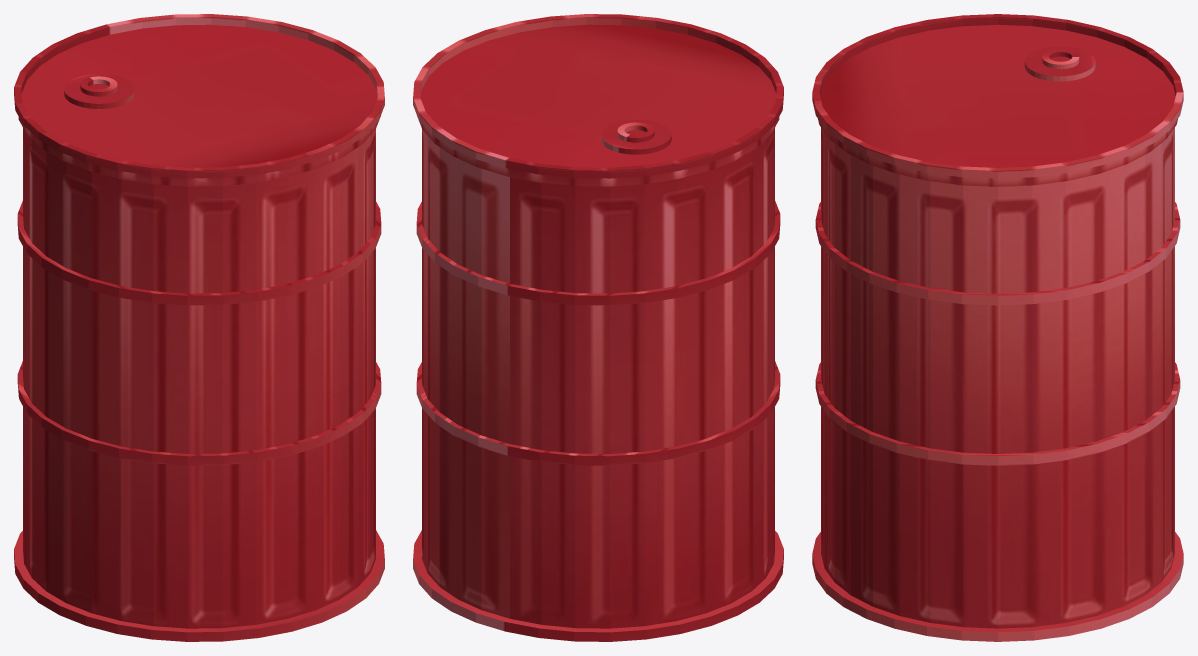
File: contenedor.fbx
3 views of the same model, side by side, from view 1: azimuth 30°, elevation 25°; view 2: azimuth 150°, elevation 25°; view 3: azimuth 270°, elevation 25° (orthographic).
Visible parts, largest first — view 1: Cilindro, Cylinder; view 2: Cilindro, Cylinder; view 3: Cilindro, Cylinder.
Part boxes in pixels (box(x1,y1,x2,y2)): Cilindro: box(14, 24, 384, 641); Cylinder: box(14, 14, 384, 178); Cilindro: box(413, 24, 783, 641); Cylinder: box(413, 14, 783, 178); Cilindro: box(812, 24, 1183, 641); Cylinder: box(812, 14, 1183, 178).
Bounding box in the file's own units: 210 × 295 × 210.
Materials: 8 (8 with a texture image).
